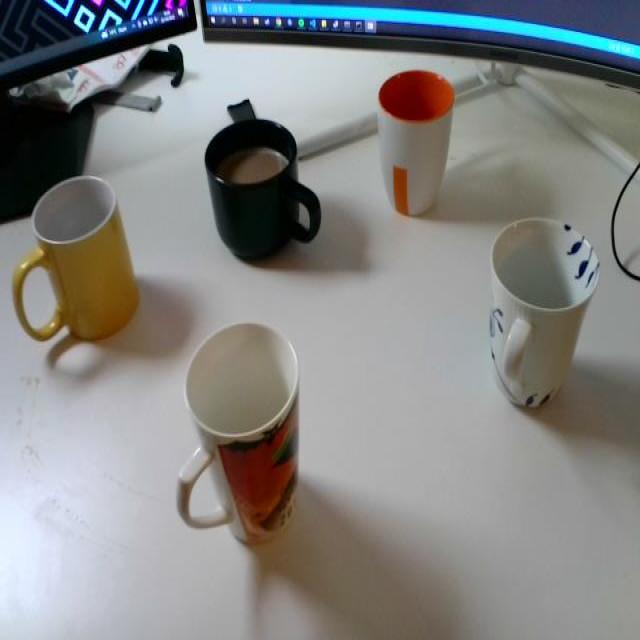cup: (168, 308, 304, 557), (479, 202, 601, 422), (12, 175, 148, 365), (196, 93, 328, 272), (368, 57, 460, 233)
